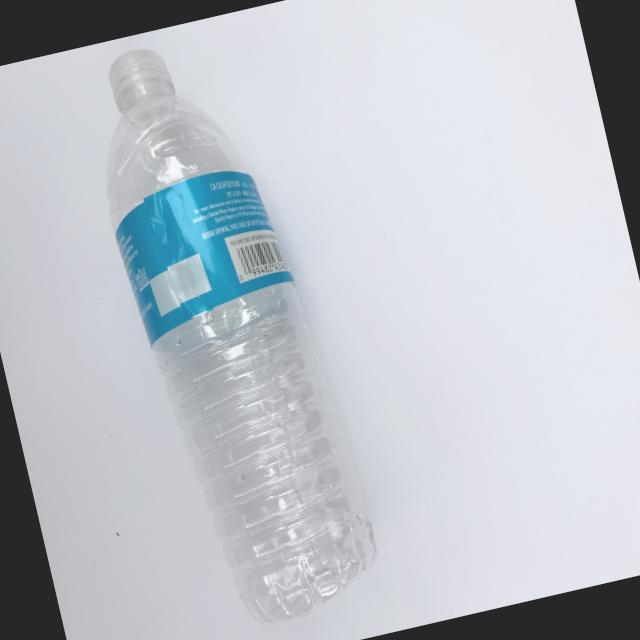Plastic: (51, 0, 442, 640)
